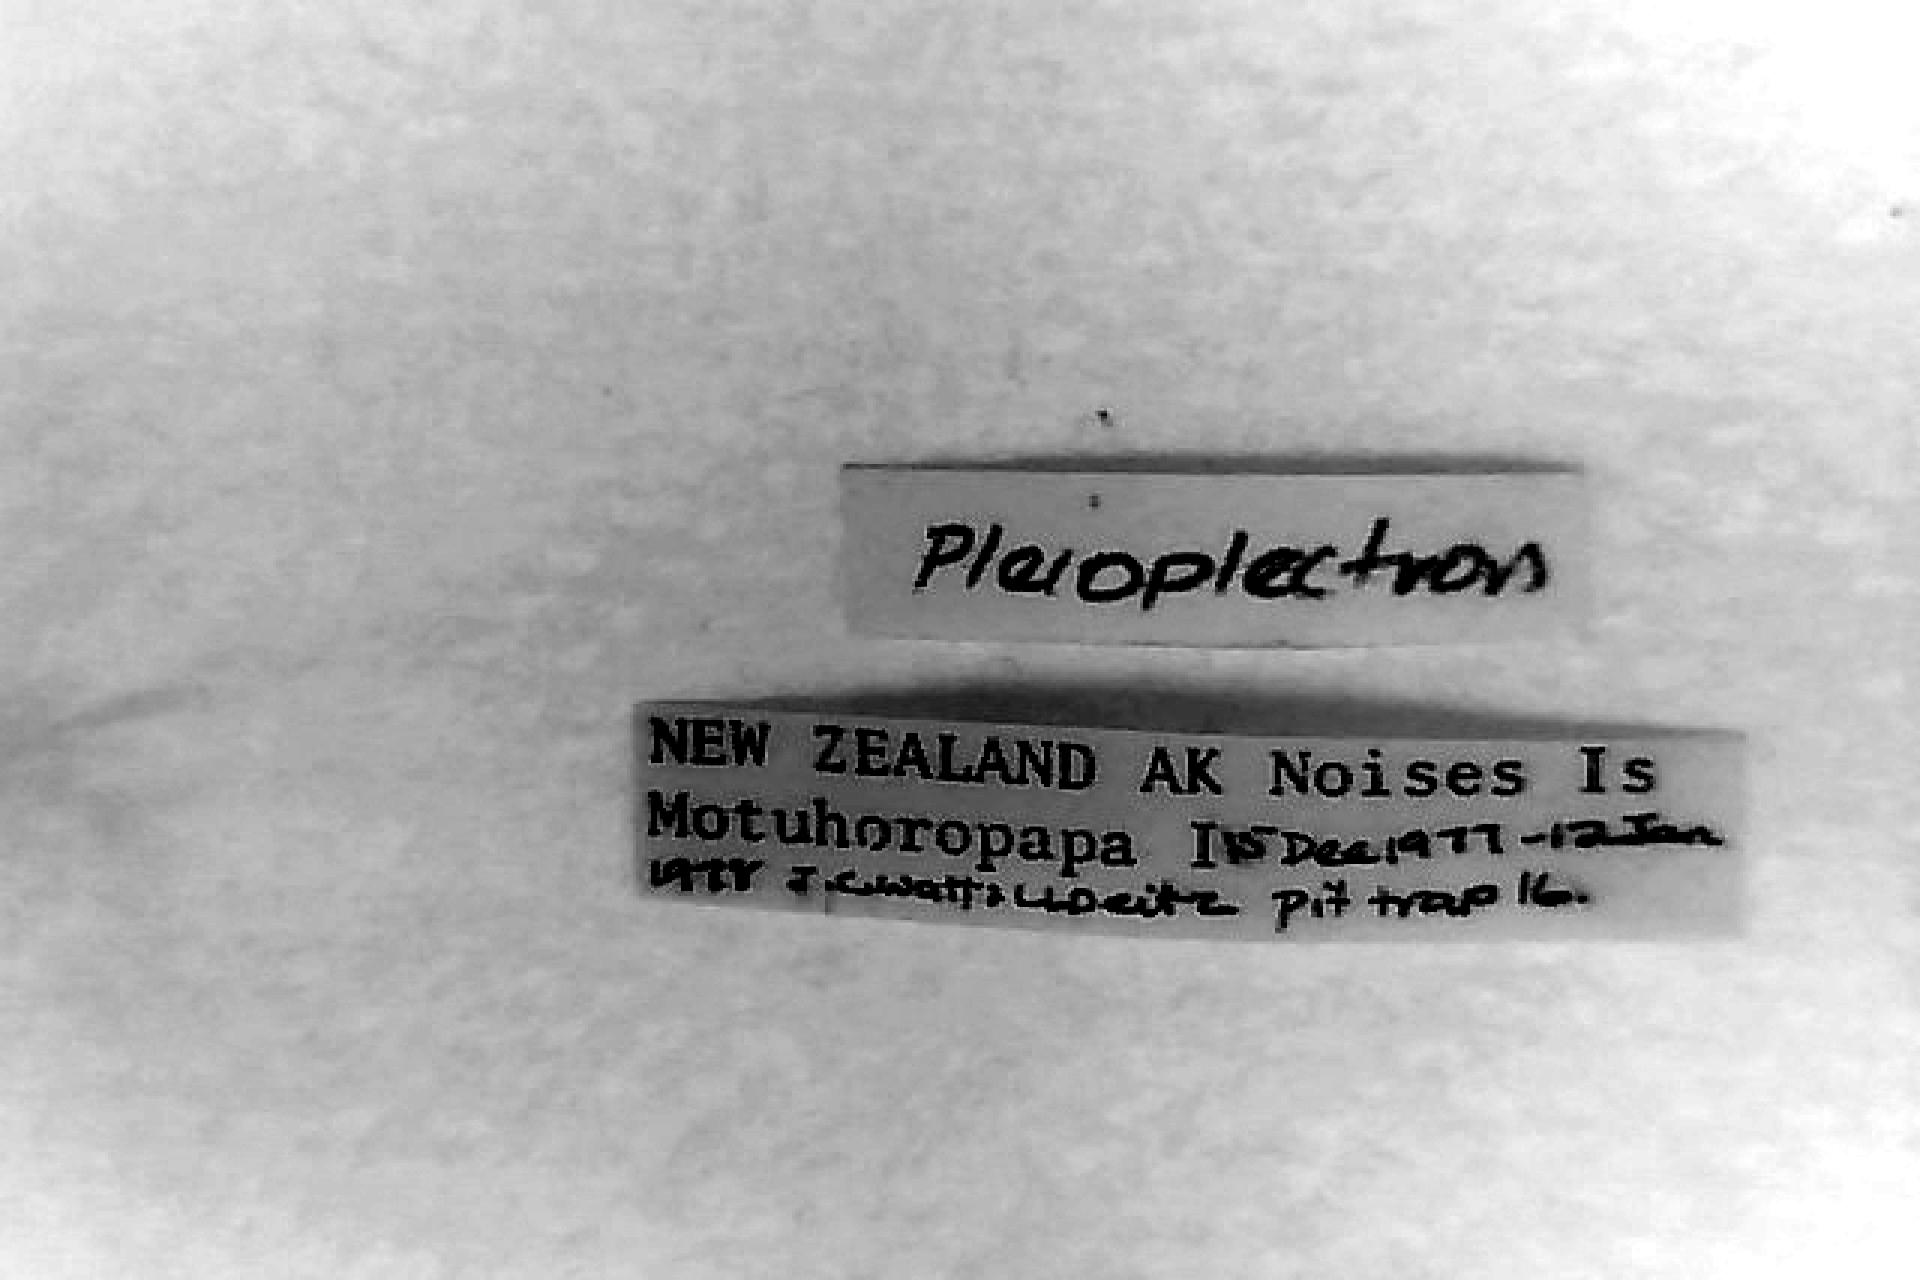hand_label: (844, 463, 1590, 647)
mixed_label: (637, 703, 1744, 939)
